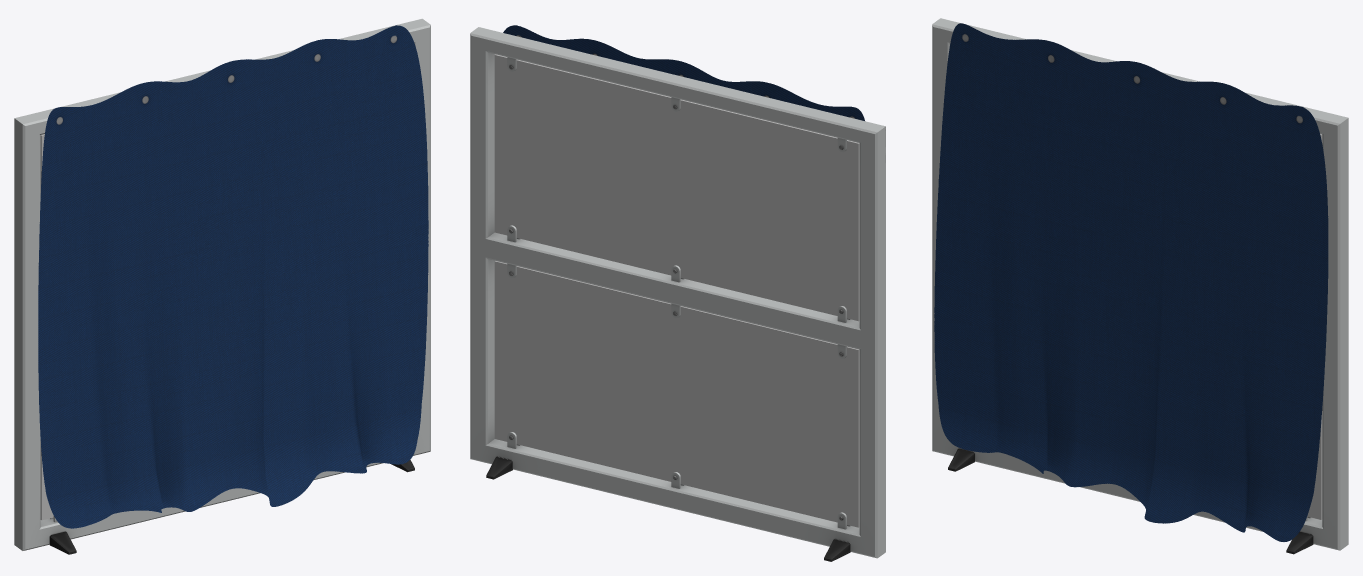
File: glass_divider_0001.fbx
3 renders of one model, left to right at view 1: azimuth 30°, elevation 25°; view 2: azimuth 150°, elevation 25°; view 3: azimuth 330°, elevation 25°, orthographic.
Parts seen in each view (by area): view 1: glass_divider_curtain_1, glass_divider_main, glass_divider_curtain; view 2: glass_divider_curtain, glass_divider_main, glass_divider_curtain_1; view 3: glass_divider_curtain_1, glass_divider_main, glass_divider_curtain.
Part boxes in pixels (bbox=[...]): glass_divider_curtain_1: bbox=[38, 25, 428, 528]; glass_divider_main: bbox=[14, 18, 430, 554]; glass_divider_curtain: bbox=[40, 134, 53, 520]; glass_divider_curtain: bbox=[494, 54, 859, 527]; glass_divider_main: bbox=[470, 27, 885, 561]; glass_divider_curtain_1: bbox=[503, 25, 864, 120]; glass_divider_curtain_1: bbox=[934, 23, 1328, 541]; glass_divider_main: bbox=[932, 18, 1348, 554]; glass_divider_curtain: bbox=[1307, 134, 1322, 519].
Size of the model in its own units: 2 by 2.06 by 0.3532.
